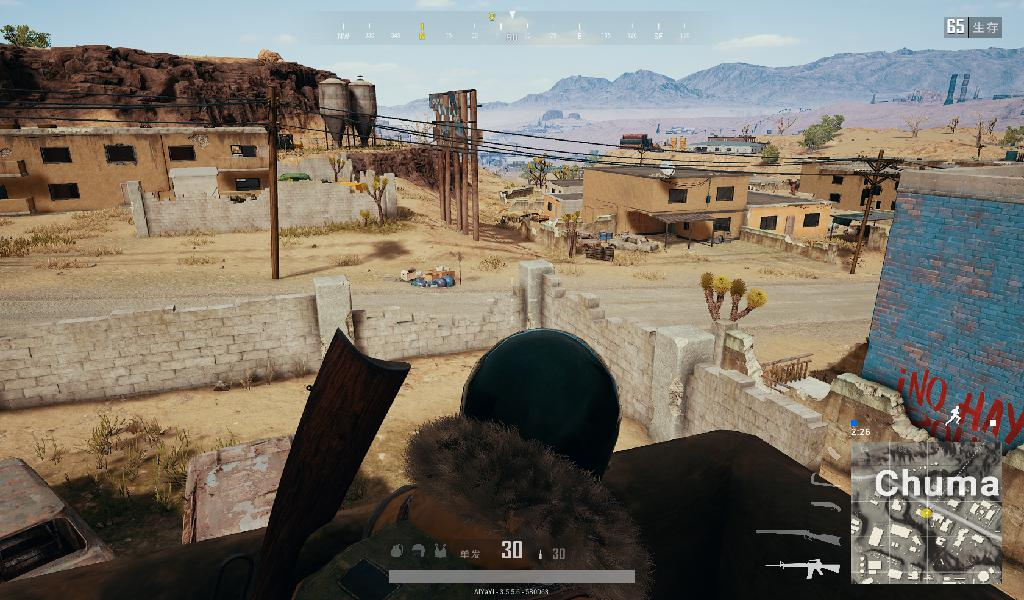Target Person: (281, 321, 659, 600)
